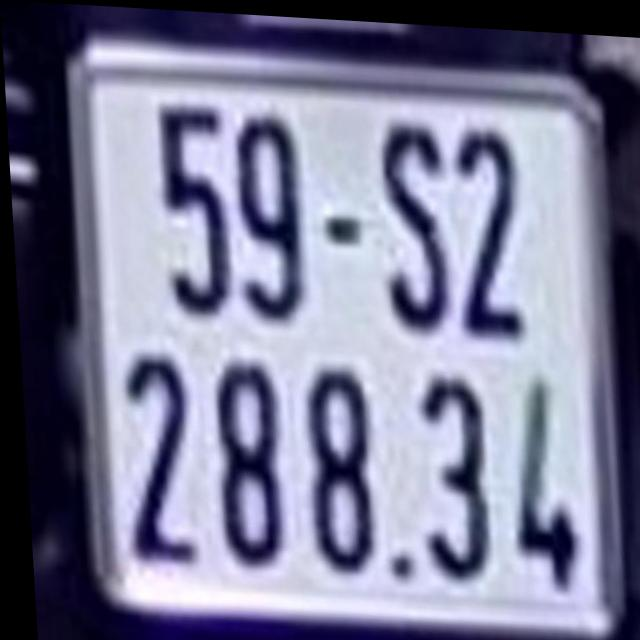2: (117, 355, 200, 564), (452, 123, 522, 332)
3: (413, 367, 487, 571)
4: (505, 372, 572, 583)
5: (153, 102, 233, 310)
8: (209, 364, 278, 563), (304, 367, 369, 569)
9: (232, 108, 303, 311)
S: (371, 120, 449, 324)
